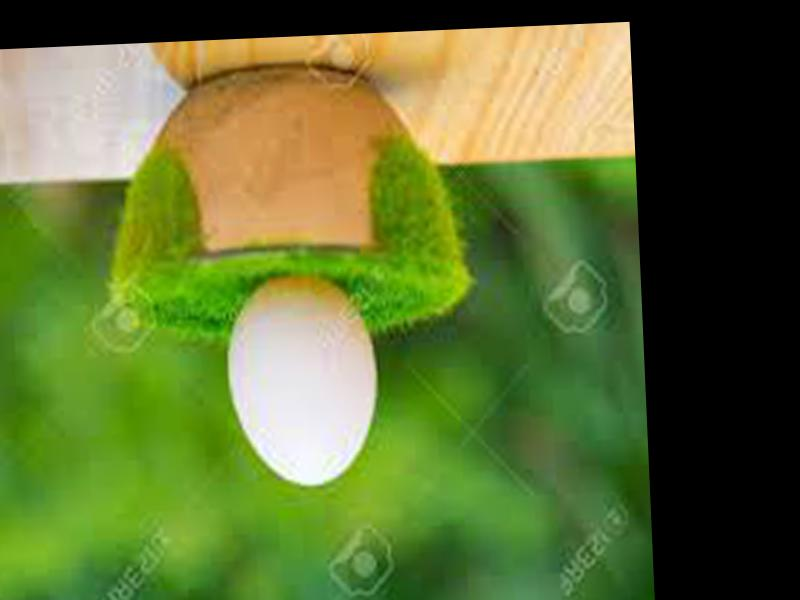Eggs: (220, 272, 378, 485)
